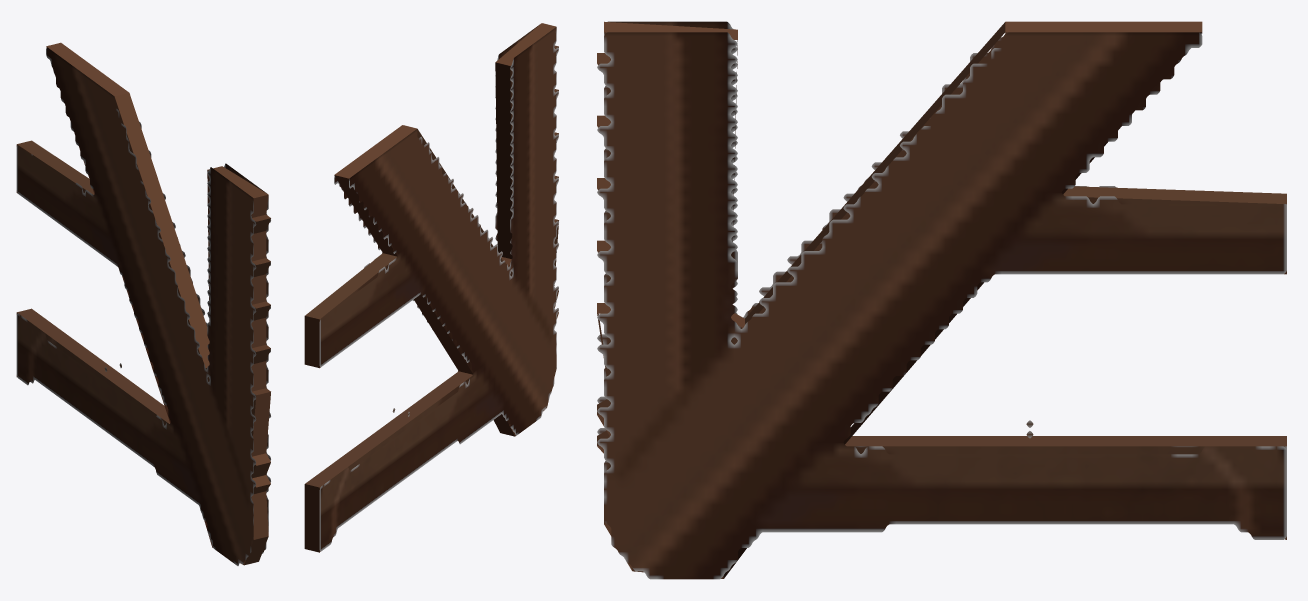
The model's file is pz_native_fixtures_railings_01_85_frame.obj.
3 renders of one model, left to right at view 1: azimuth 30°, elevation 25°; view 2: azimuth 150°, elevation 25°; view 3: azimuth 270°, elevation 25°, orthographic. The views are drawn at different scales.
Parts seen in each view (by area): view 1: pz_native_fixtures_railings_01_85_frame; view 2: pz_native_fixtures_railings_01_85_frame; view 3: pz_native_fixtures_railings_01_85_frame.
Boxes of the visible parts, x1=… form: pz_native_fixtures_railings_01_85_frame: x1=16, y1=42, x2=270, y2=565; pz_native_fixtures_railings_01_85_frame: x1=304, y1=23, x2=558, y2=552; pz_native_fixtures_railings_01_85_frame: x1=597, y1=21, x2=1286, y2=579.
Size of the model in its own units: 0.045 by 1.12 by 1.28.
Materials: 1 (1 with a texture image).
